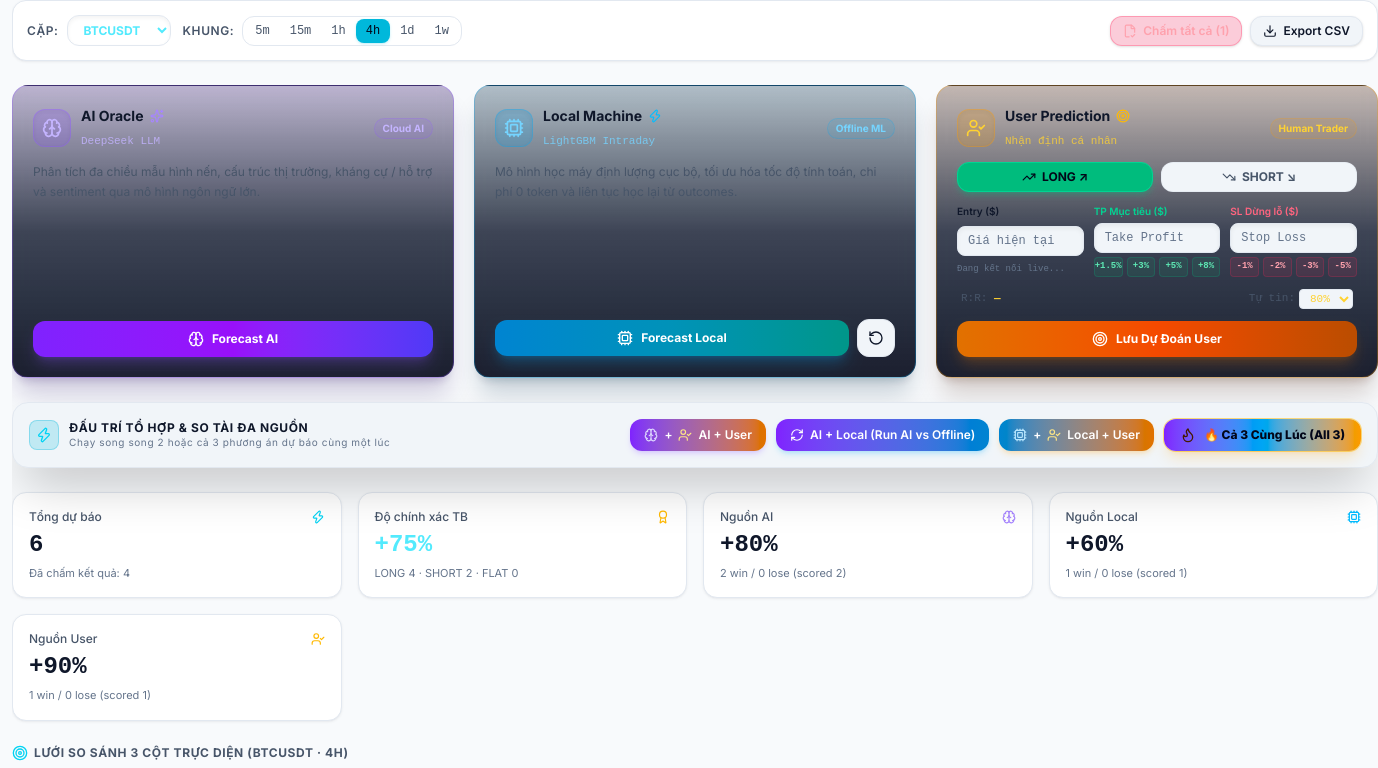
Test: ForecastCompare UI and 3-Cluster Command Deck › applies quick percentage chips to auto-calculate TP and SL from Entry
The width and height of the screenshot is (1378, 768).
In the number field with placeholder "Giá hiện tại": (1020, 241) [957,226,1084,256], type "100000"
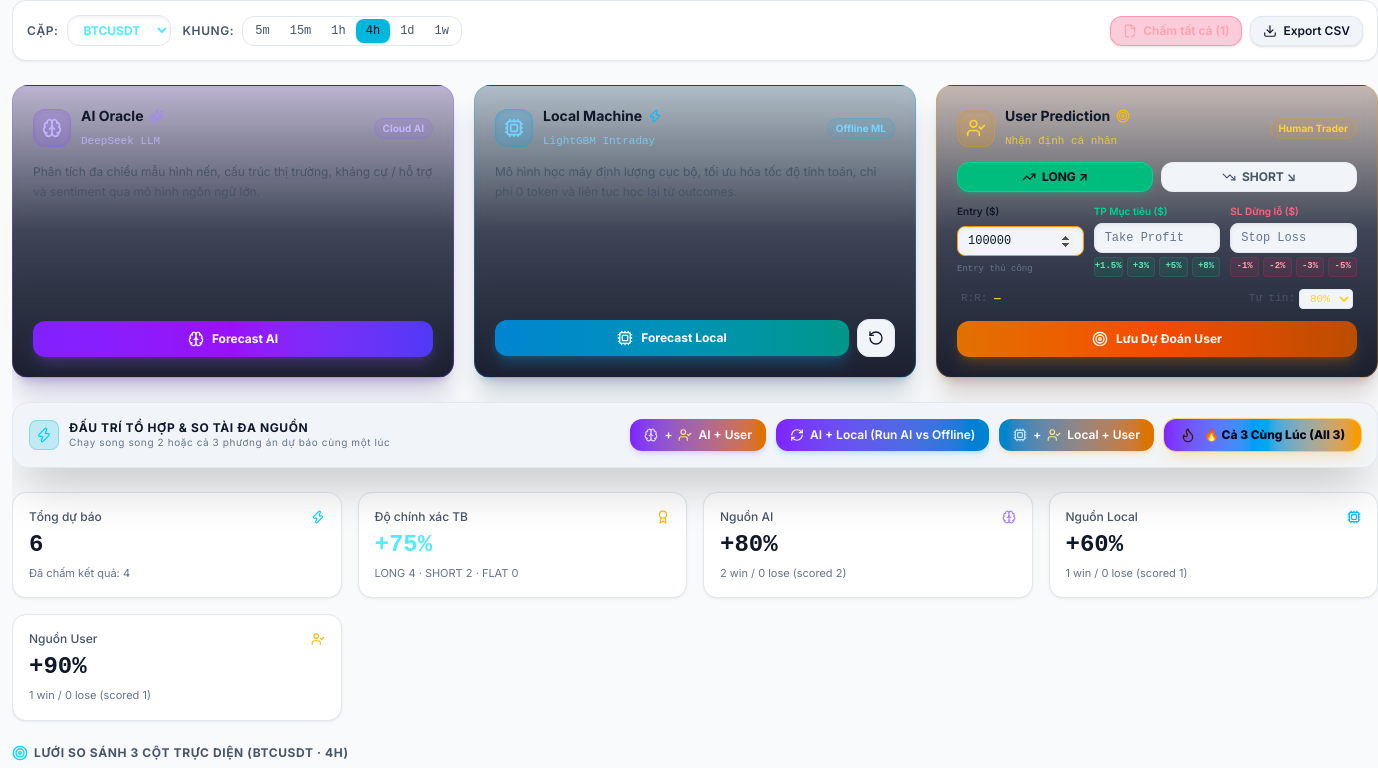
Click +3% chip for TP
Click the button "+3%": (1141, 267) [1127,257,1155,276]
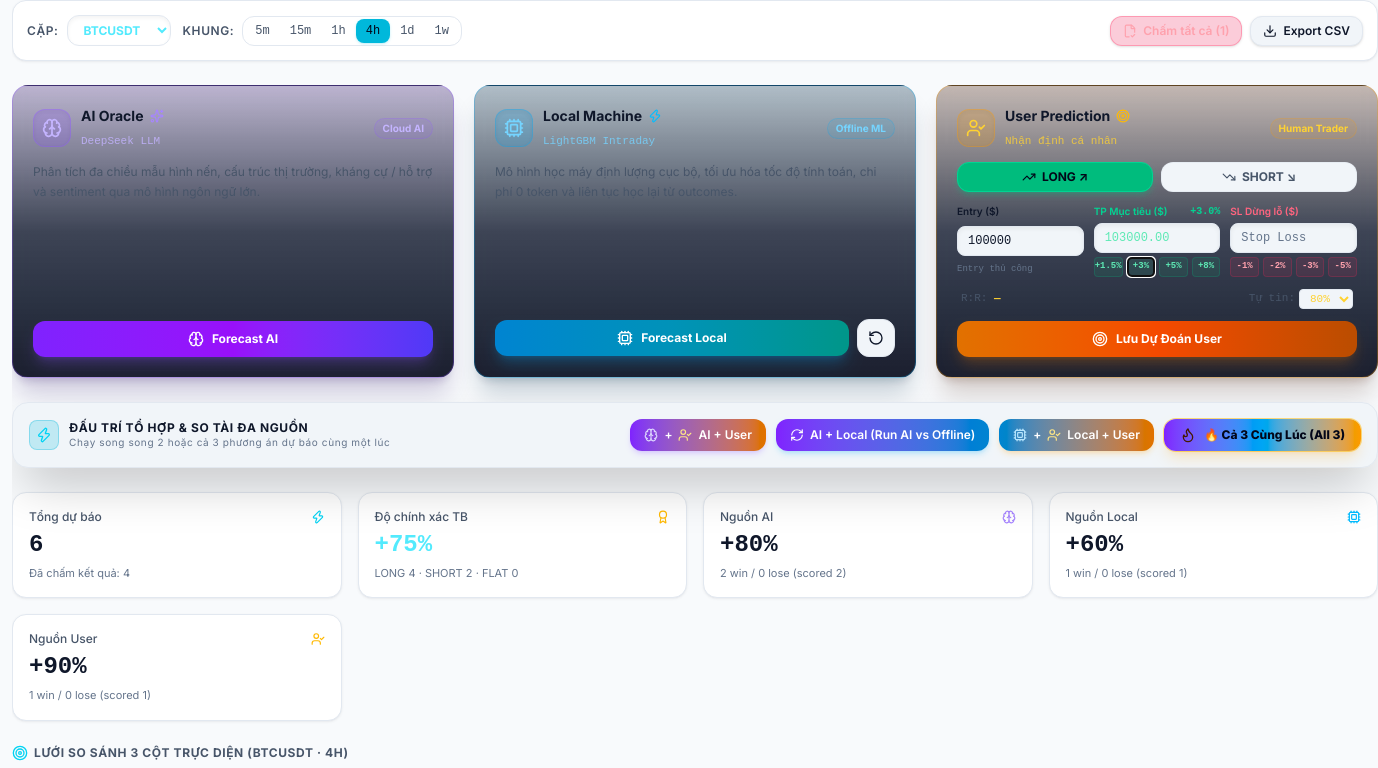
Click -2% chip for SL
Click the button "-2%": (1277, 267) [1263,257,1292,276]
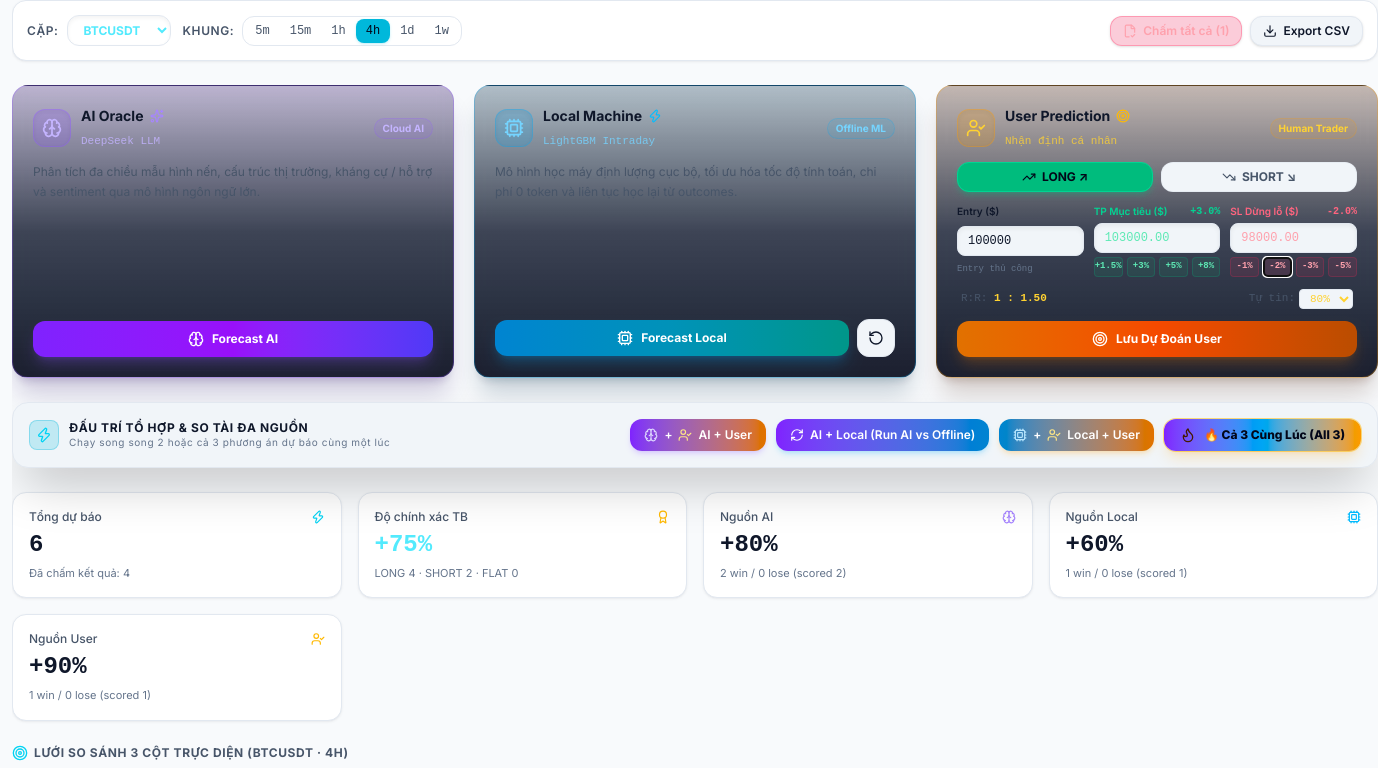
expect the number field with placeholder "Take Profit" below "TP Mục tiêu ($)" holds "103000.00": met, box [1094,223,1220,253]
expect the number field with placeholder "Stop Loss" below "SL Dừng lỗ ($)" holds "98000.00": met, box [1230,223,1357,253]
expect the text "1 : 1.50" is shown: met, box [994,292,1047,304]
